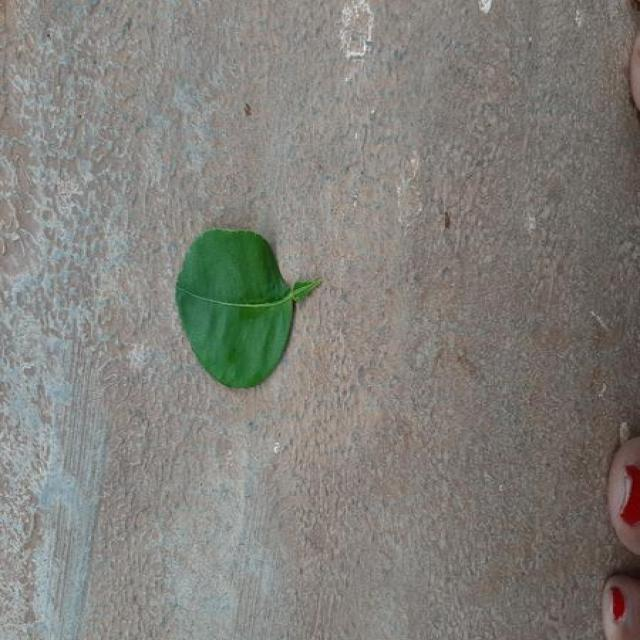lemon: (177, 229, 320, 388)
neem: (177, 229, 320, 388)
